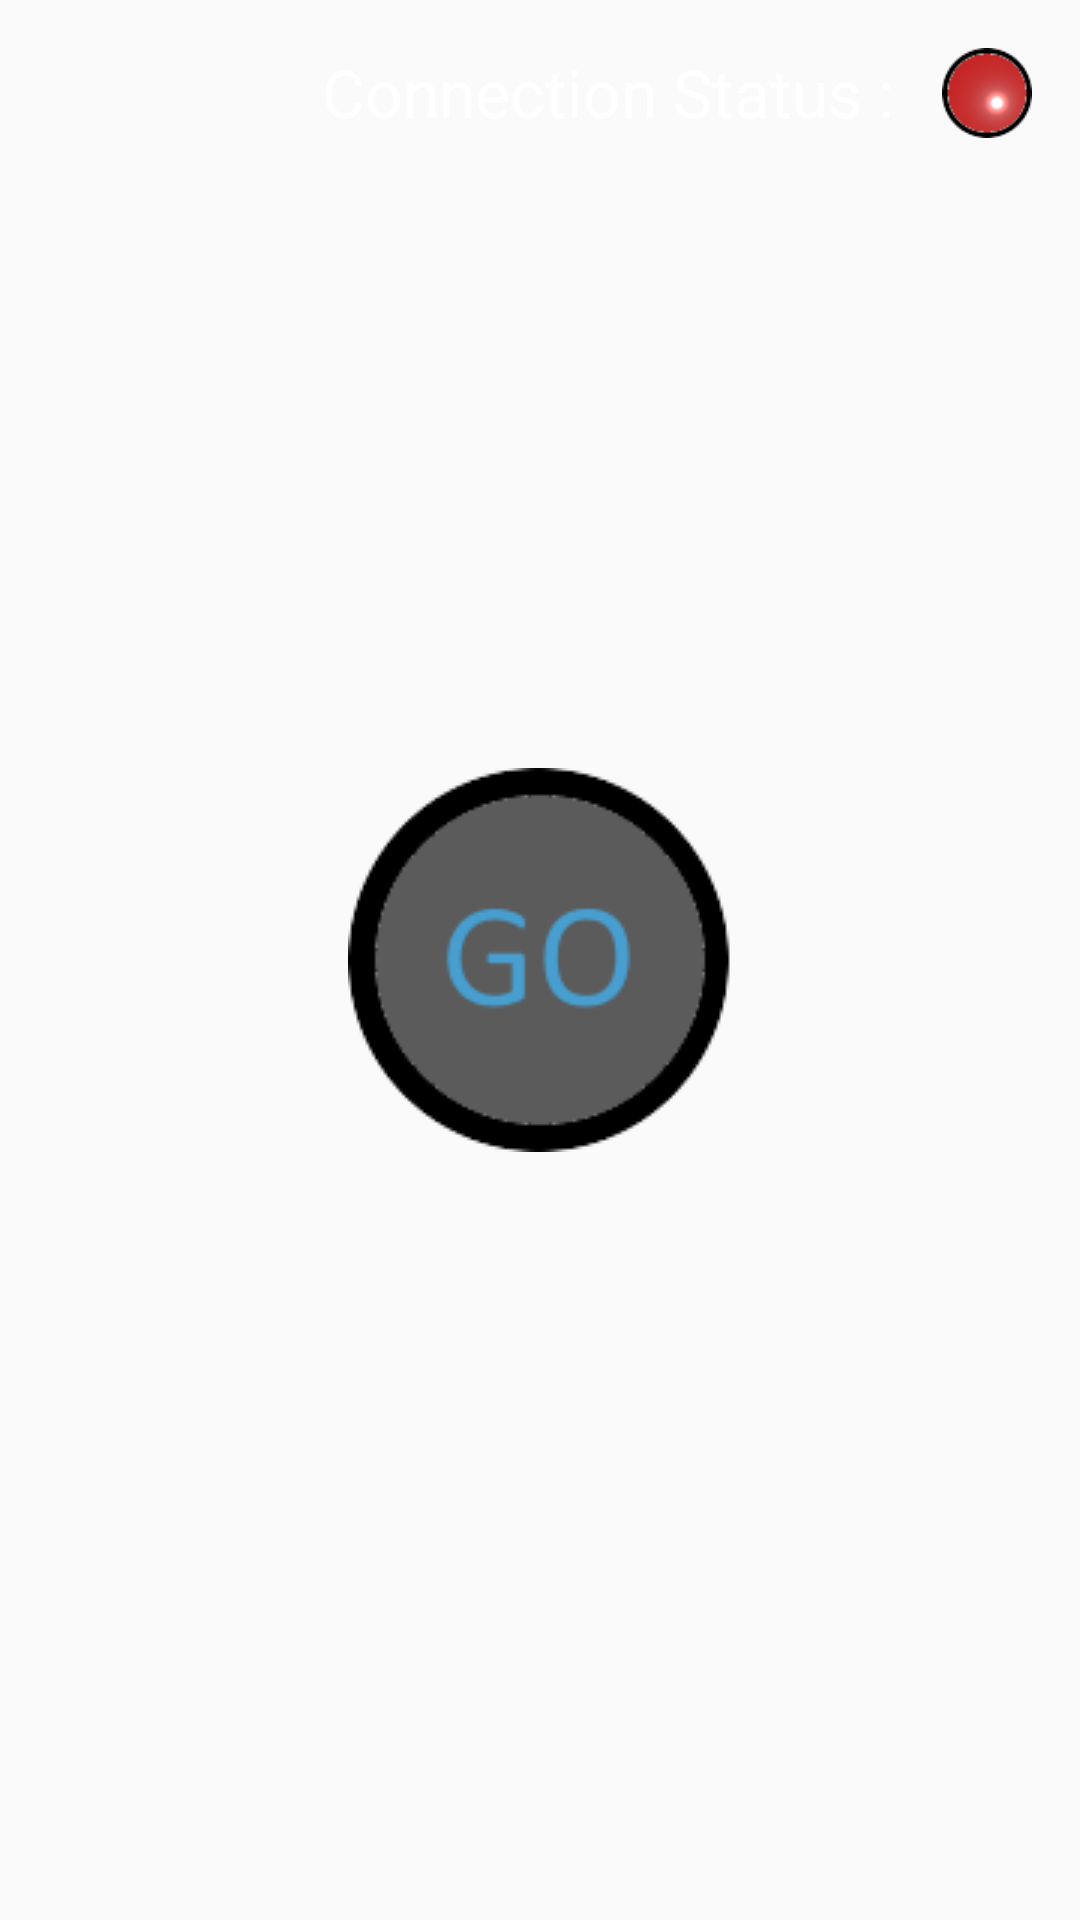

Locate icon controls on the screen. Image size 1080 × 1920, boxes as [x1=x1, y1=y1, x2=x2, y2=y2].
non actif: [x1=942, y1=48, x2=1032, y2=138]
